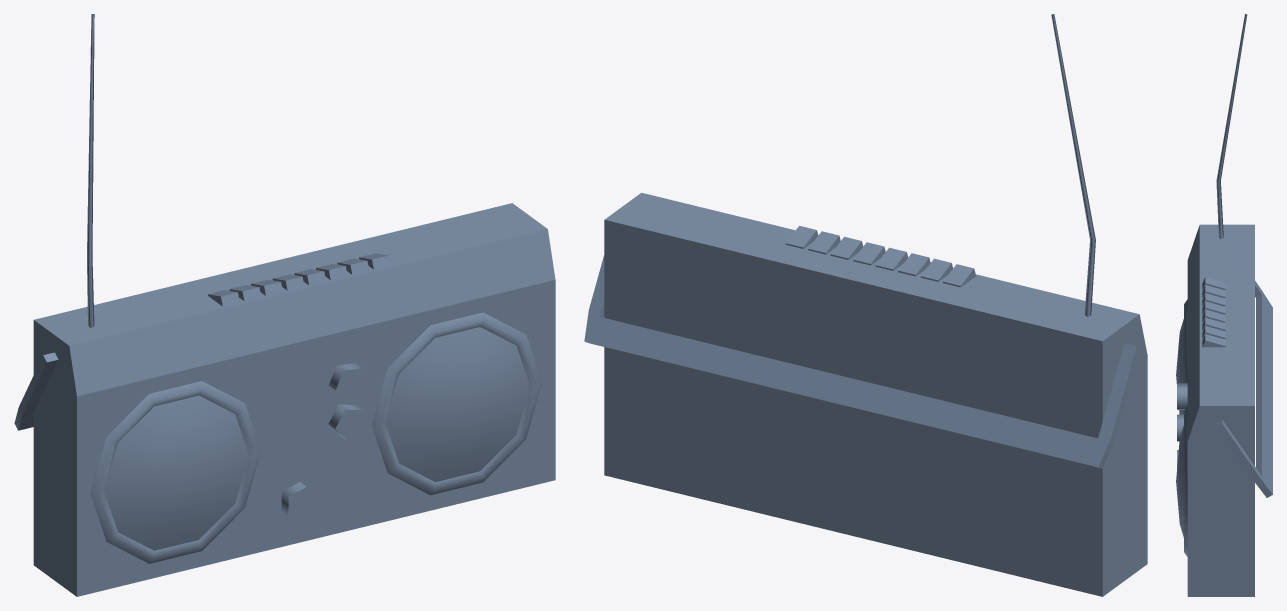
File: SM_RadioBox_00.fbx
3 views of the same model, side by side, from view 1: azimuth 30°, elevation 25°; view 2: azimuth 150°, elevation 25°; view 3: azimuth 270°, elevation 25° (orthographic). The views are drawn at different scales.
Visible parts, largest first — view 1: RadioBox_00; view 2: RadioBox_00; view 3: RadioBox_00.
Part boxes in pixels (x1=…): RadioBox_00: x1=14, y1=14, x2=555, y2=596; RadioBox_00: x1=584, y1=14, x2=1147, y2=596; RadioBox_00: x1=1176, y1=14, x2=1272, y2=596.
Size of the model in its own units: 51.14 by 52.83 by 11.01.
